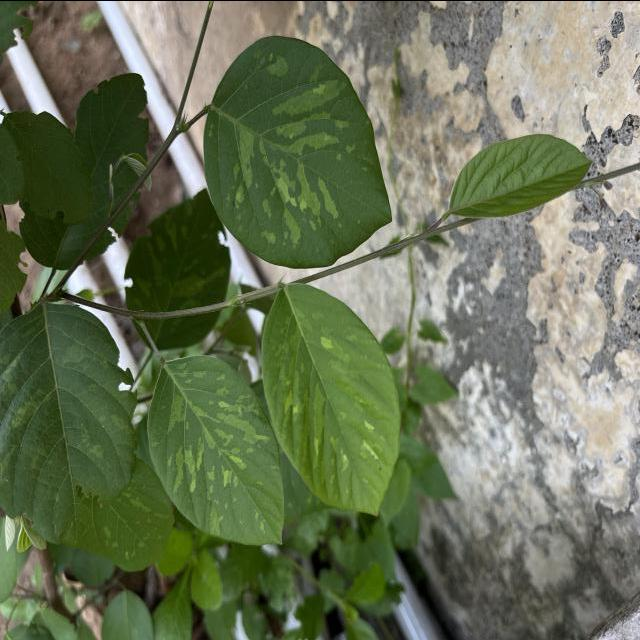Desmodium gangeticum: (202, 32, 397, 270), (259, 279, 404, 519), (144, 352, 288, 546)
